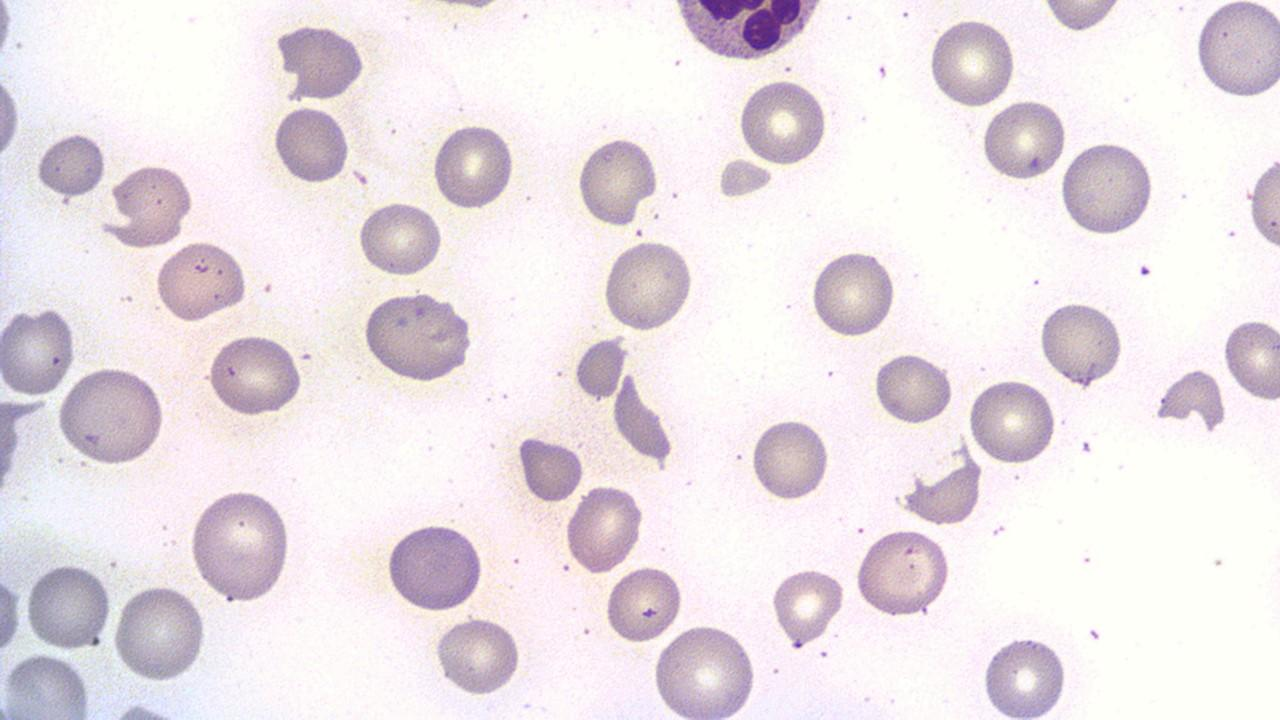Platelets: (513, 433, 584, 506), (571, 334, 628, 402), (1077, 440, 1089, 453)
RBC: (191, 0, 572, 402), (0, 309, 356, 716), (434, 334, 738, 718), (1, 77, 321, 440), (187, 483, 292, 605), (56, 362, 170, 467), (360, 288, 474, 386), (651, 621, 761, 719), (110, 582, 210, 686), (382, 519, 488, 614), (1057, 139, 1157, 237), (852, 526, 954, 620), (600, 237, 696, 333), (204, 332, 306, 420), (1194, 0, 1280, 103), (736, 76, 830, 169), (926, 14, 1016, 111), (979, 629, 1073, 719), (23, 558, 113, 652), (152, 239, 250, 325), (808, 246, 896, 341), (892, 440, 986, 528), (574, 133, 660, 229), (978, 95, 1068, 186), (966, 376, 1055, 468), (431, 119, 516, 213), (432, 612, 524, 698), (1039, 298, 1125, 388), (564, 481, 644, 577), (0, 300, 78, 398), (750, 413, 832, 505), (356, 198, 446, 280), (271, 102, 352, 188), (603, 562, 685, 646), (768, 562, 846, 650), (2, 650, 97, 718), (872, 350, 954, 427), (110, 161, 196, 232), (1150, 366, 1232, 438), (513, 430, 586, 506), (35, 128, 108, 200), (1222, 316, 1278, 405), (1245, 150, 1279, 254), (1038, 1, 1124, 33), (0, 62, 22, 167), (0, 563, 24, 659)
WBC: (361, 287, 478, 391), (664, 0, 832, 69), (382, 518, 490, 615), (269, 20, 370, 103), (1152, 364, 1228, 441)
